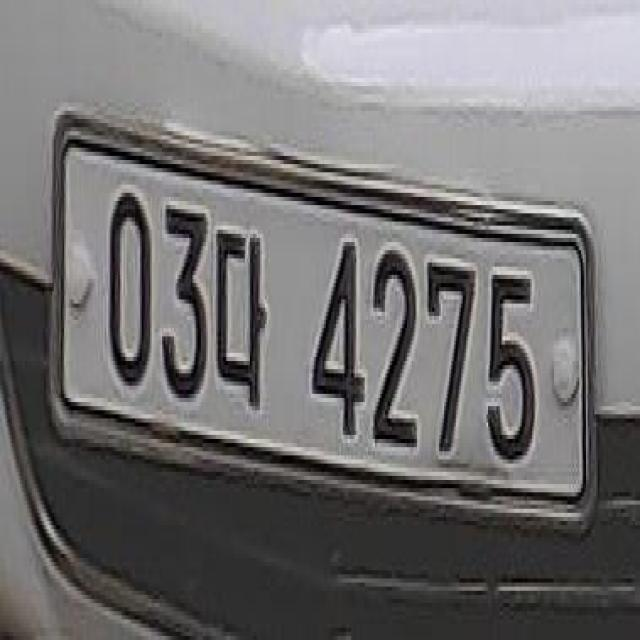illegal_plate: (54, 125, 600, 536)
